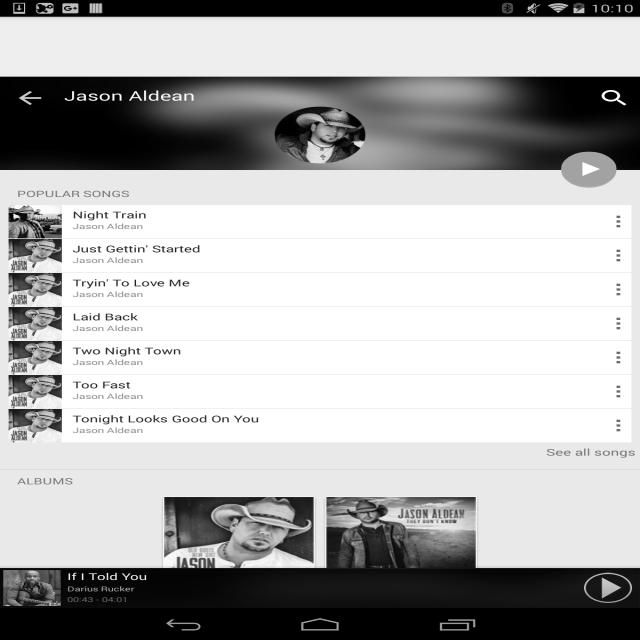ImageButton: (559, 150, 619, 188), (0, 79, 60, 117)
ImageView: (0, 60, 640, 263), (164, 497, 314, 590), (326, 497, 476, 590), (275, 107, 365, 163), (0, 568, 64, 608), (576, 568, 640, 608), (8, 205, 62, 238), (8, 239, 62, 272), (8, 273, 62, 306), (8, 307, 62, 340), (8, 341, 62, 374), (8, 375, 62, 408), (8, 409, 62, 442), (606, 213, 631, 230), (606, 248, 631, 264), (606, 282, 631, 298), (606, 316, 631, 332), (606, 350, 631, 366), (606, 384, 631, 399), (606, 418, 631, 433)
TextView: (0, 188, 640, 200), (0, 475, 640, 487), (0, 446, 636, 458), (72, 208, 606, 221), (72, 242, 606, 255), (72, 276, 606, 289), (72, 310, 606, 323), (72, 344, 606, 357), (72, 378, 606, 391), (72, 412, 606, 425), (67, 570, 576, 583), (67, 593, 576, 604), (72, 221, 606, 231), (72, 255, 606, 265), (72, 289, 606, 299), (72, 323, 606, 333), (72, 357, 606, 367), (72, 391, 606, 401), (72, 425, 606, 435), (67, 583, 576, 593), (64, 86, 195, 105), (172, 595, 306, 608), (334, 595, 468, 608), (589, 82, 640, 114), (172, 608, 306, 618), (334, 608, 468, 618)
